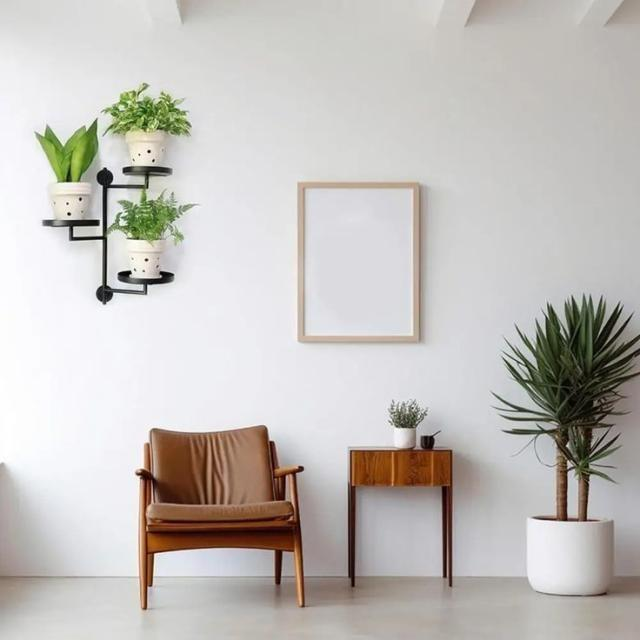obstacle: (134, 424, 306, 610), (347, 445, 453, 588)
